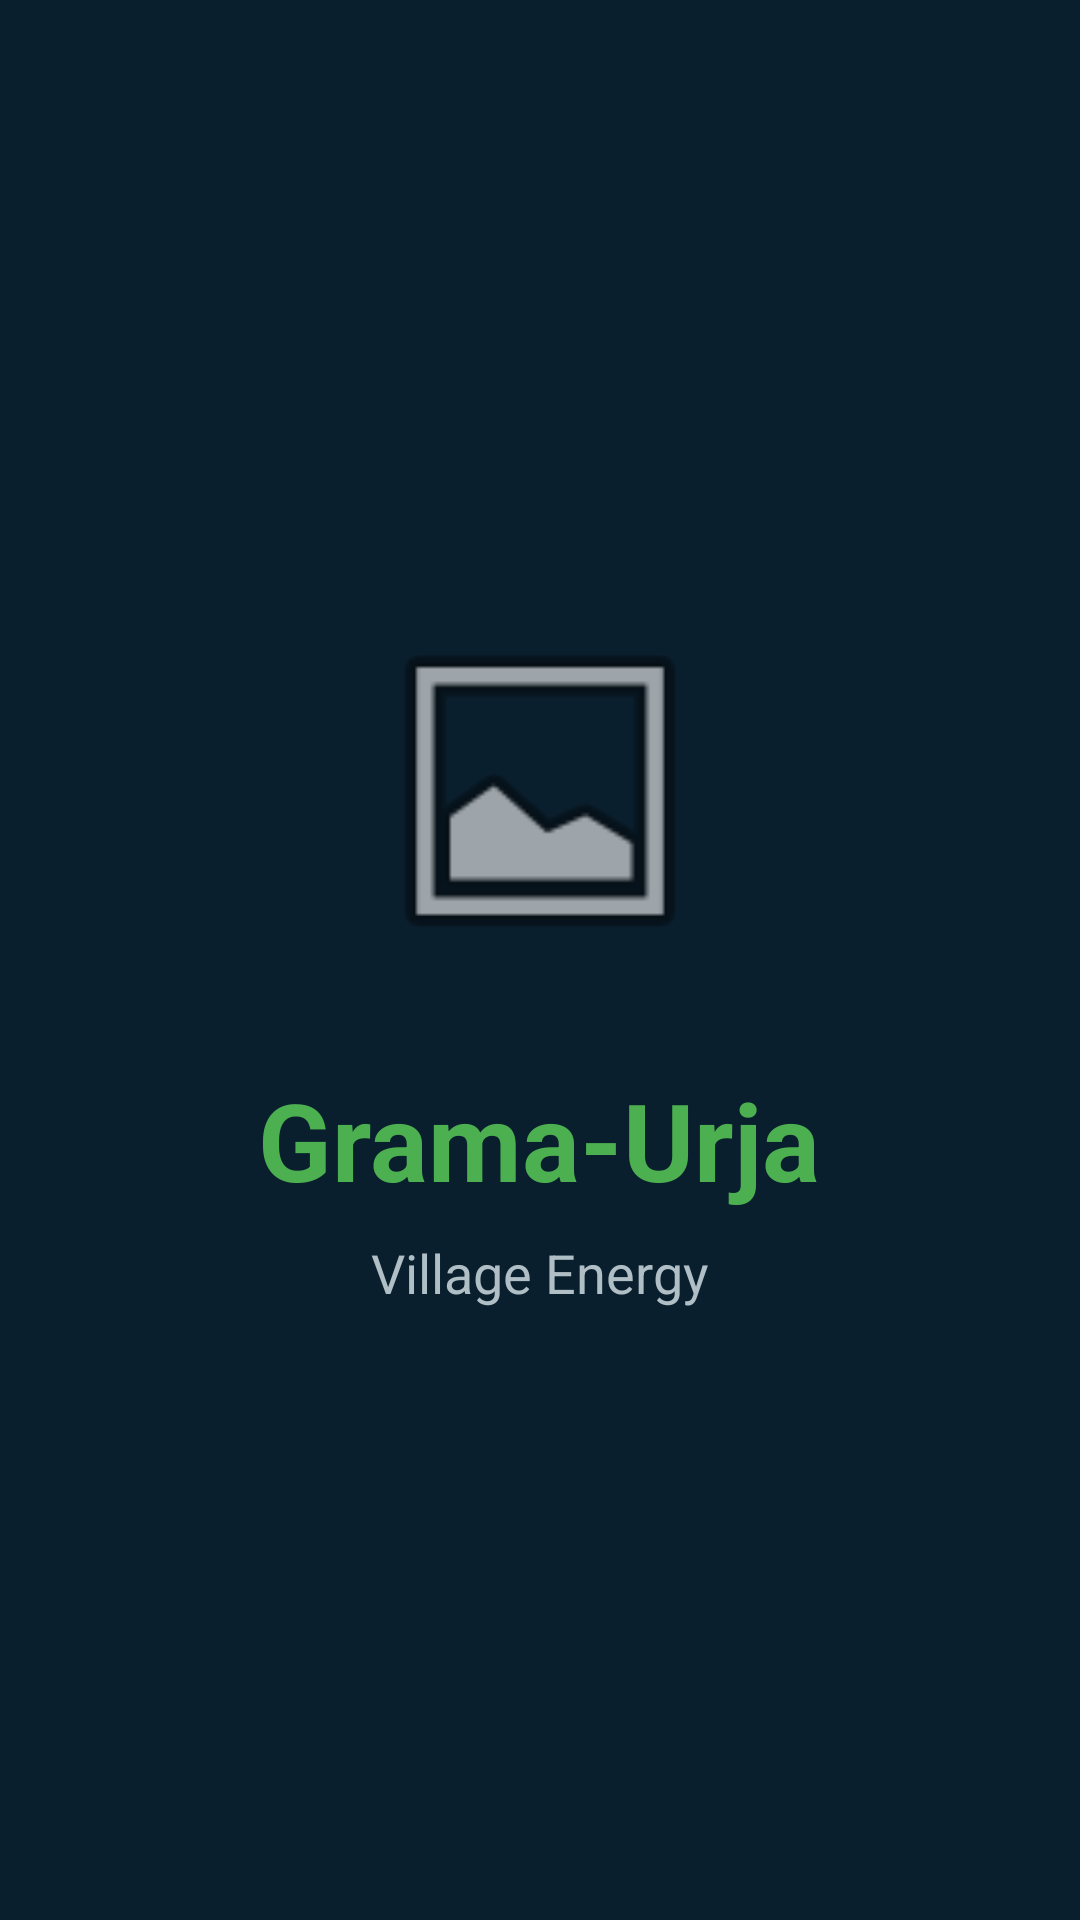

Where icons sit on this 1080w x 1920h app screen, as (x1, y1, x2, y2):
gallery: (413, 664, 667, 918)
